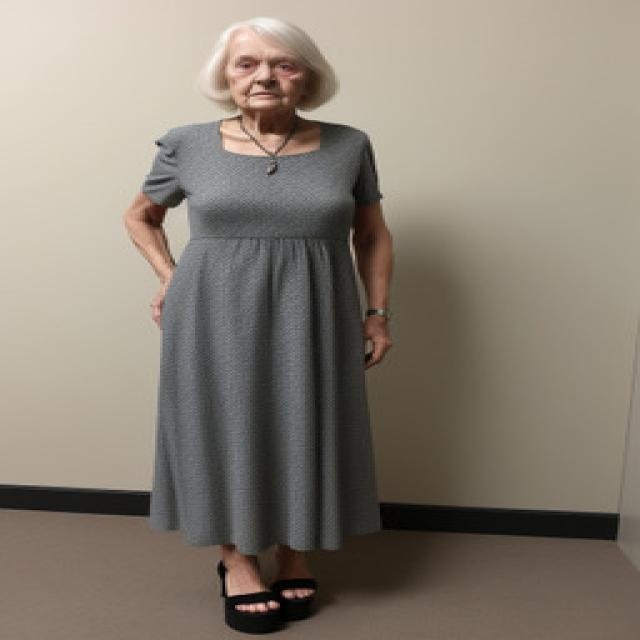Ai human 2: (115, 11, 405, 640)
